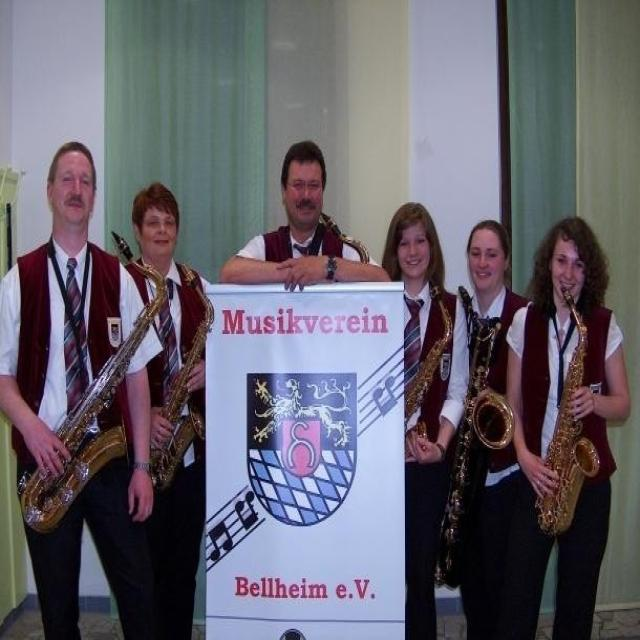saxophone: (16, 230, 170, 534), (436, 308, 520, 576), (145, 257, 218, 495), (533, 282, 600, 535), (402, 287, 454, 460)
